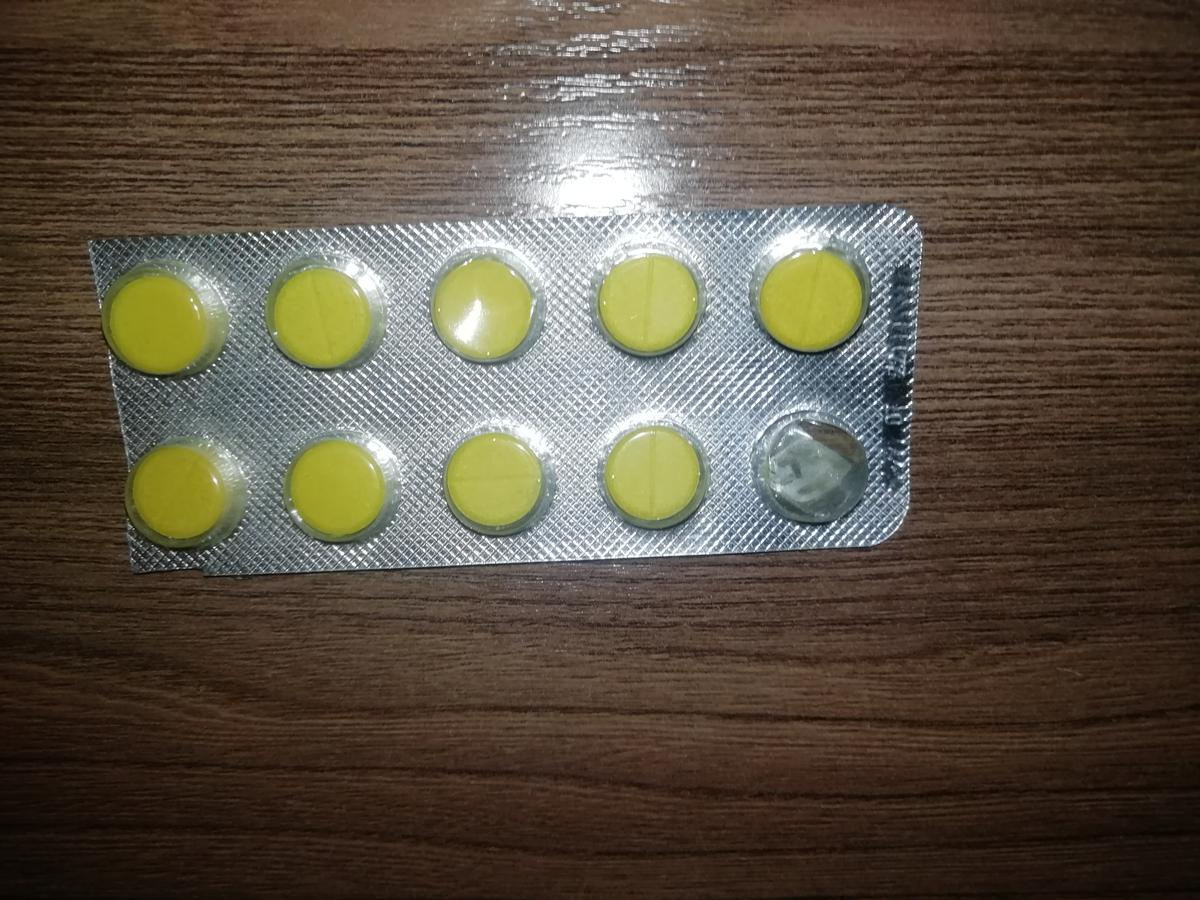tablet: (99, 258, 239, 393), (266, 249, 406, 384), (415, 242, 555, 377), (582, 236, 722, 371), (745, 229, 885, 364), (581, 403, 721, 538), (423, 414, 563, 549), (260, 425, 400, 560), (106, 432, 246, 567)
